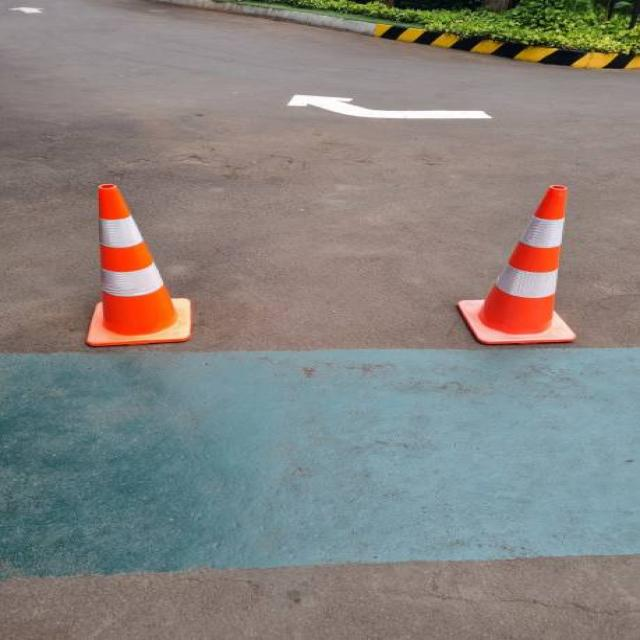Traffic Cone: (44, 167, 228, 361), (437, 164, 597, 362)
